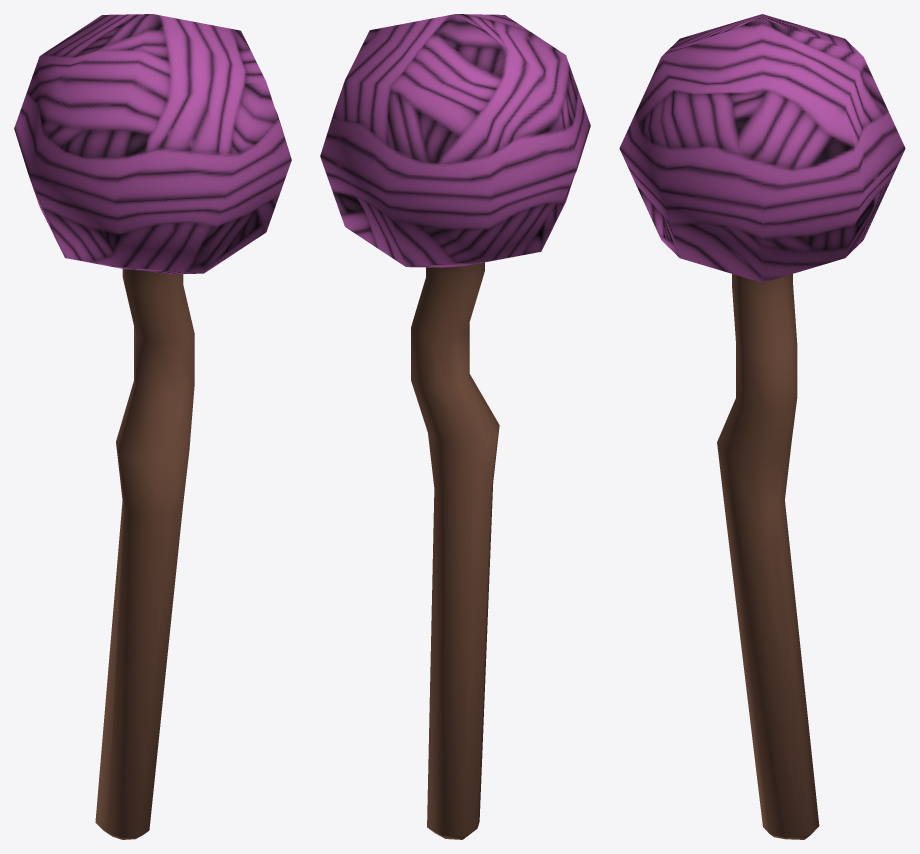
Rendered from WizardStaff.fbx.
The picture shows the model from 3 angles, left to right: view 1: azimuth 30°, elevation 25°; view 2: azimuth 150°, elevation 25°; view 3: azimuth 270°, elevation 25°; orthographic projection. The views are drawn at different scales.
Visible parts, largest first — view 1: WizardStaff; view 2: WizardStaff; view 3: WizardStaff.
Boxes of the visible parts, x1,y1,x2,y2 form: WizardStaff: (14, 14, 291, 839); WizardStaff: (320, 14, 590, 839); WizardStaff: (619, 14, 905, 839).
Bounding box in the file's own units: 24.17 × 76.51 × 24.17.
Materials: 1 (1 with a texture image).
